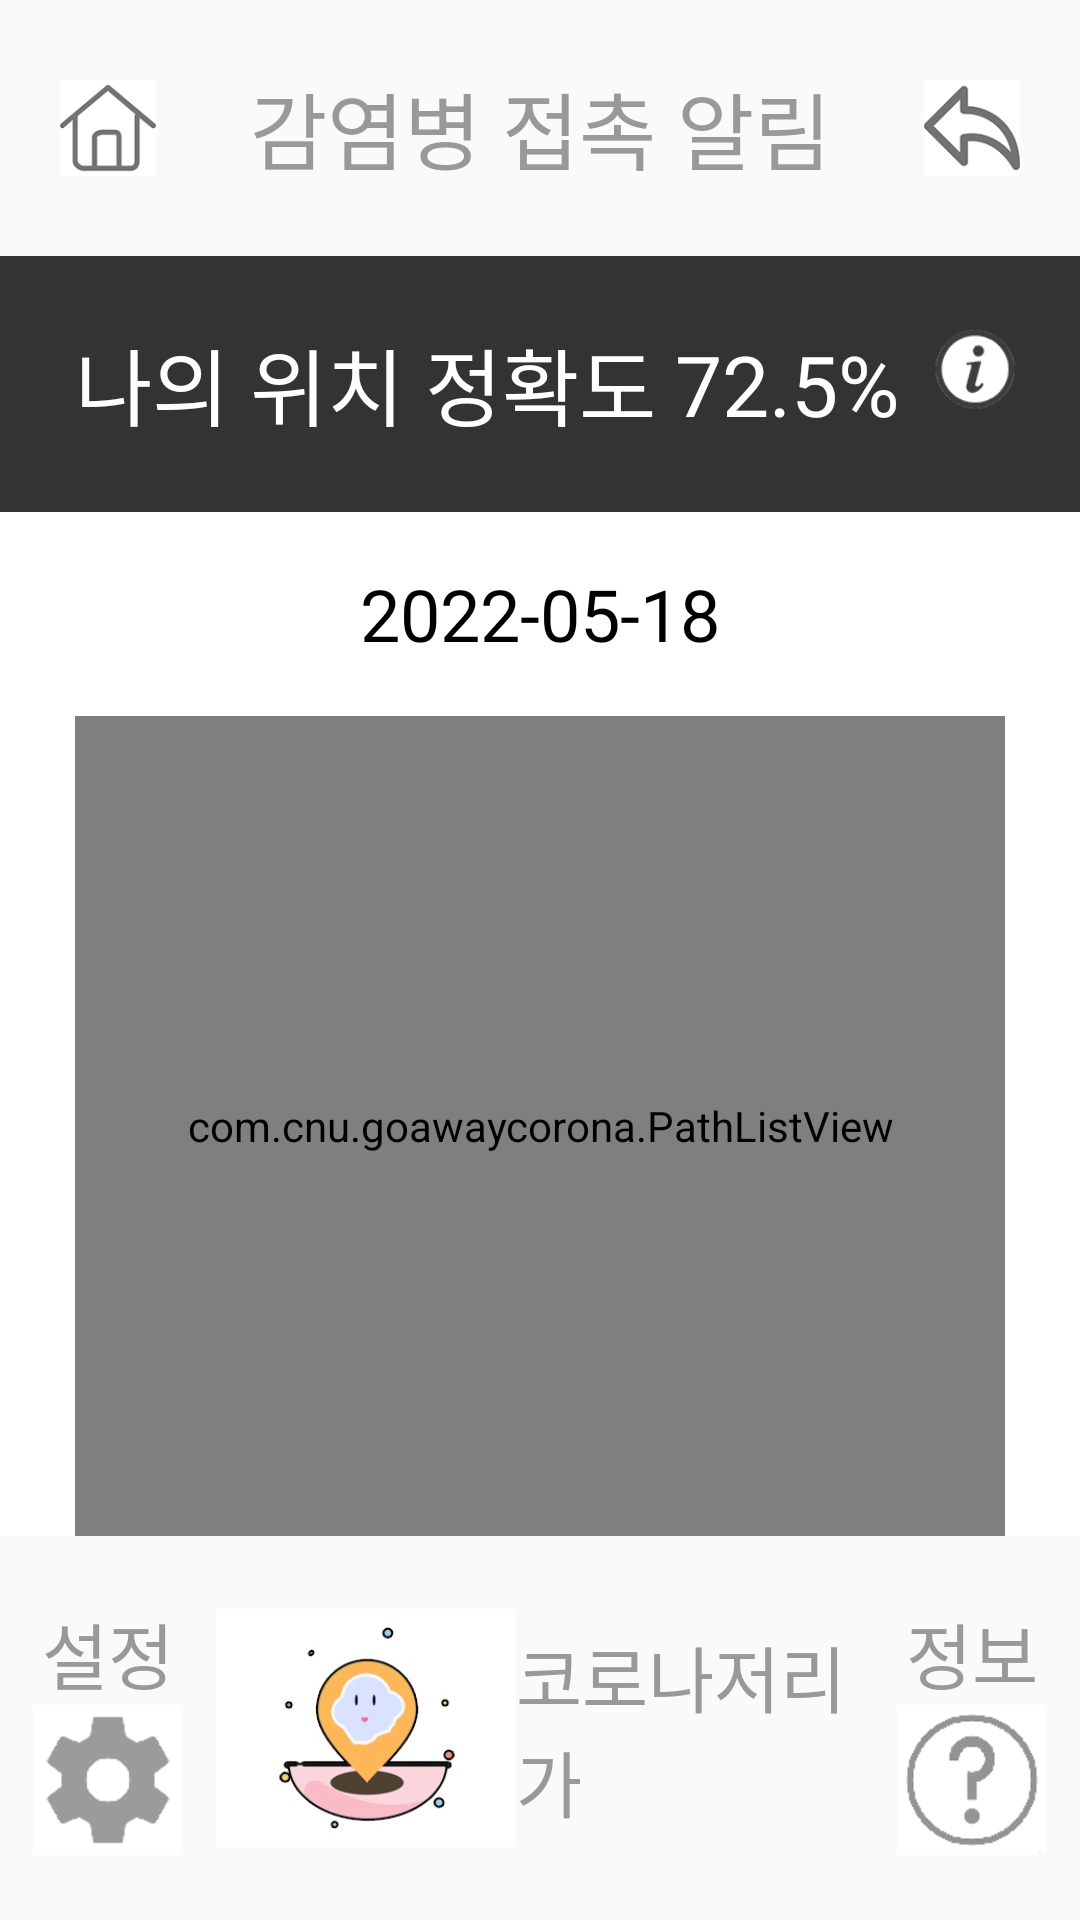

Named icons in this screenshot (1080px x 1920px) and their bounding boxes, {"x1": x1, "y1": y1, "x2": x2, "y2": y2}:
back: {"x1": 924, "y1": 86, "x2": 1020, "y2": 170}
home: {"x1": 60, "y1": 85, "x2": 156, "y2": 171}
information: {"x1": 935, "y1": 331, "x2": 1013, "y2": 408}
question: {"x1": 906, "y1": 1714, "x2": 1038, "y2": 1846}
setting: {"x1": 46, "y1": 1717, "x2": 170, "y2": 1843}
